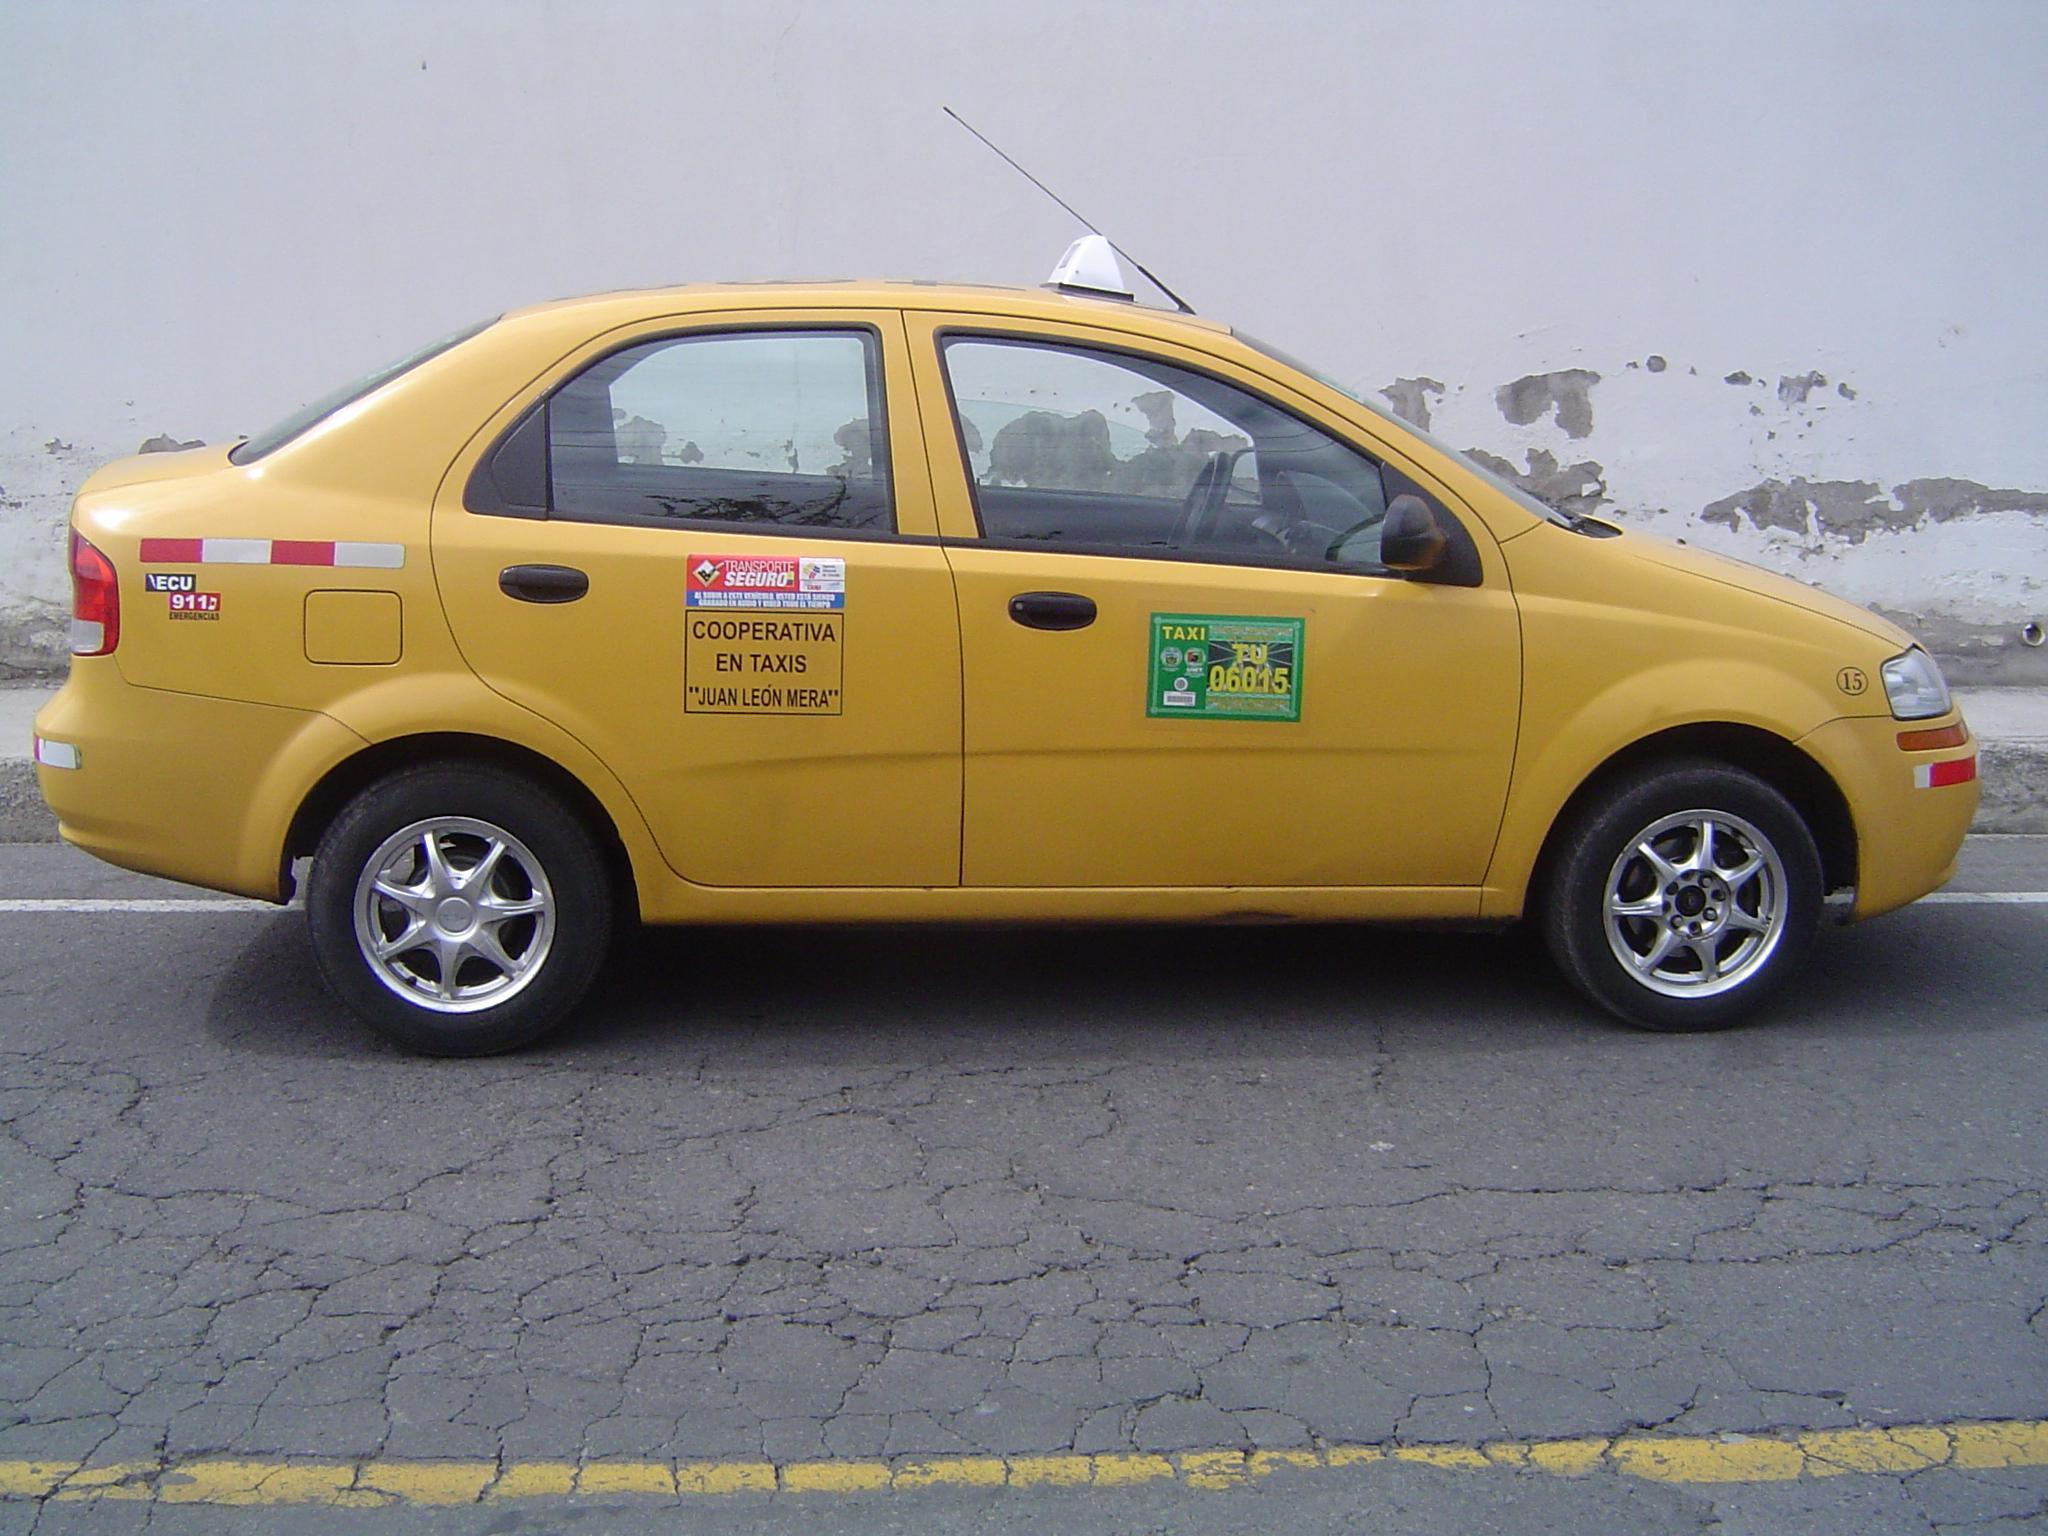taxi: (3, 194, 2048, 1113)
